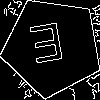E: (27, 22, 68, 73)
